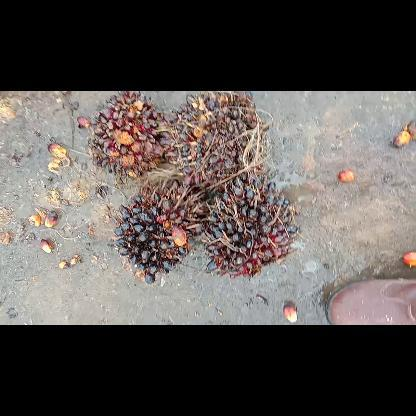TBS abnormal: (108, 174, 214, 288), (202, 175, 300, 281)
TBS masak: (164, 91, 274, 191), (84, 92, 176, 180)
